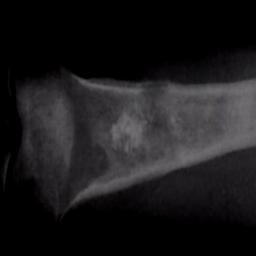cancer: (72, 76, 228, 197)
